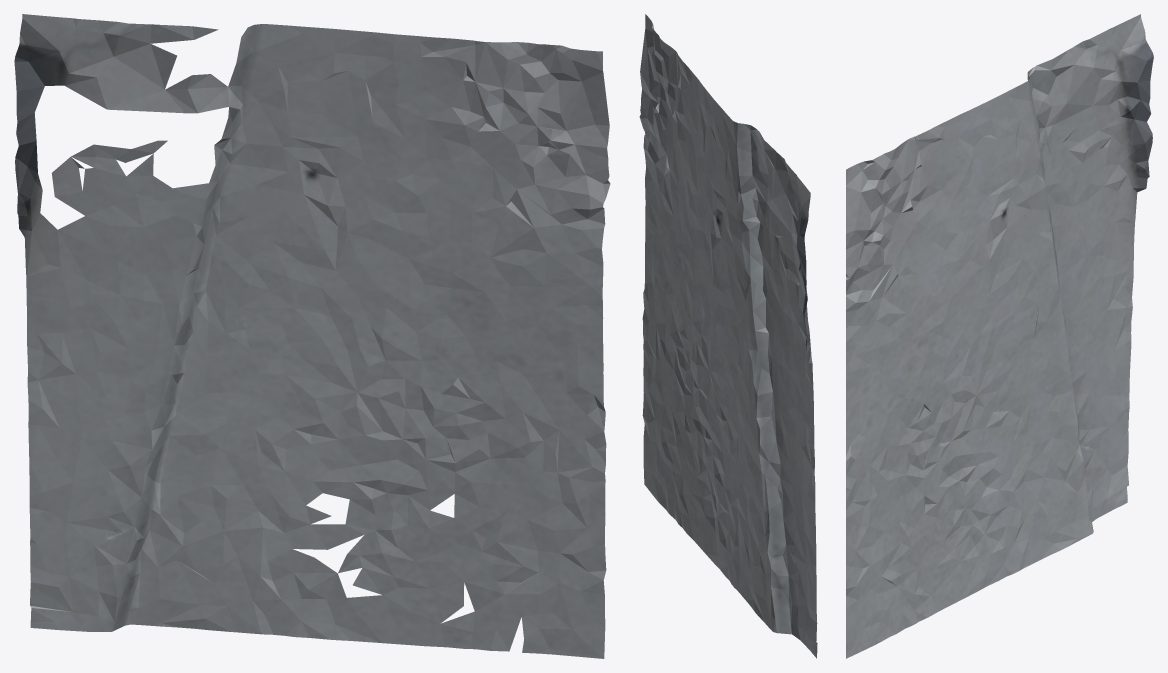
The picture shows the model from 3 angles, left to right: view 1: azimuth 30°, elevation 25°; view 2: azimuth 150°, elevation 25°; view 3: azimuth 270°, elevation 25°; orthographic projection. The views are drawn at different scales.
Size of the model in its own units: 0.5833 by 0.8374 by 0.4782.
Materials: 2 (2 with a texture image).
